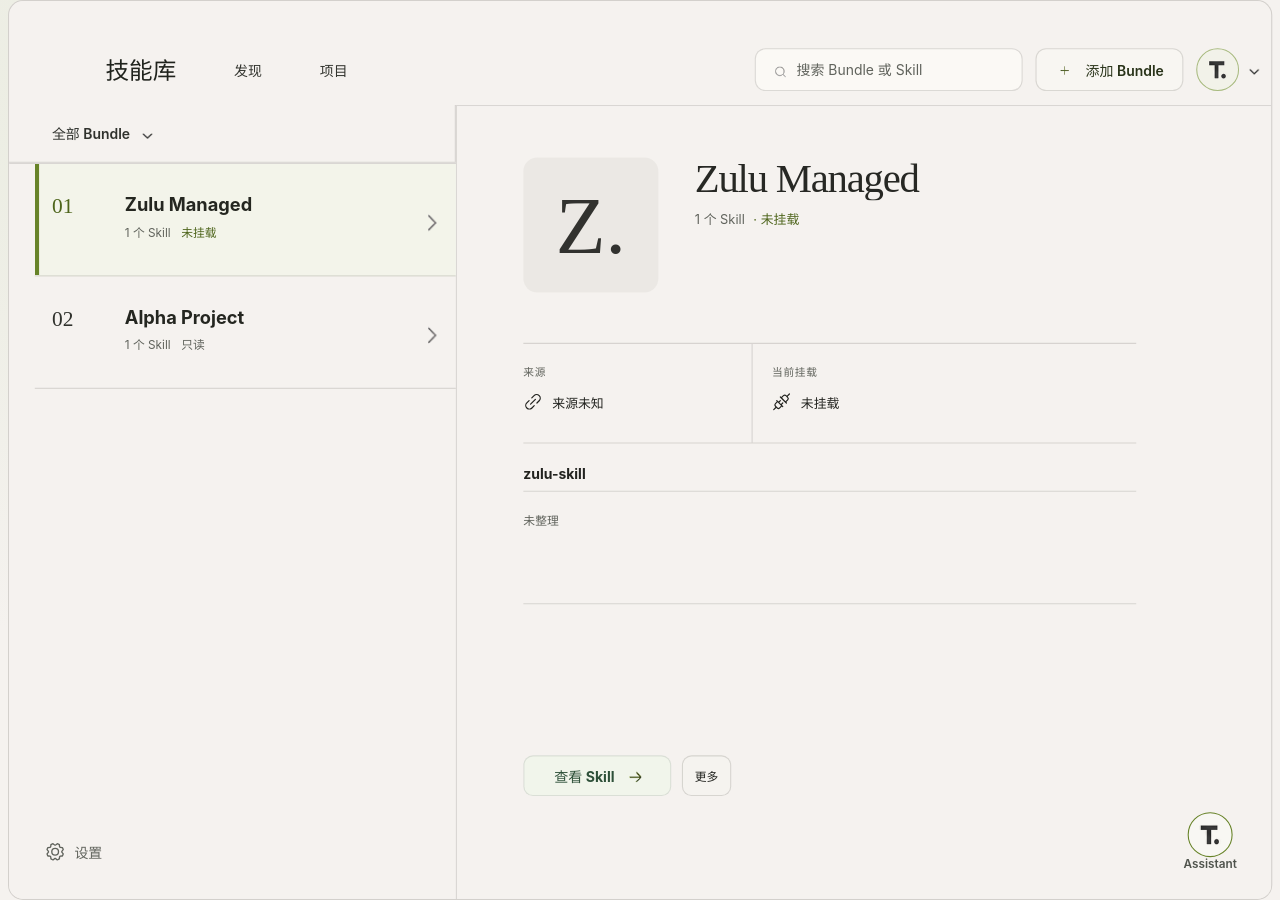
Scenario: 主题功能等价 › ledger 通过共享排序入口按名称浏览并保留当前 Bundle
The width and height of the screenshot is (1280, 900).
Expected: the element "Zulu Managed" is shown, [695, 155, 918, 227]
Click the heading named "筛选与排序：全部 Bundle · 管理状态优先": [91, 134] box [9, 105, 456, 163]
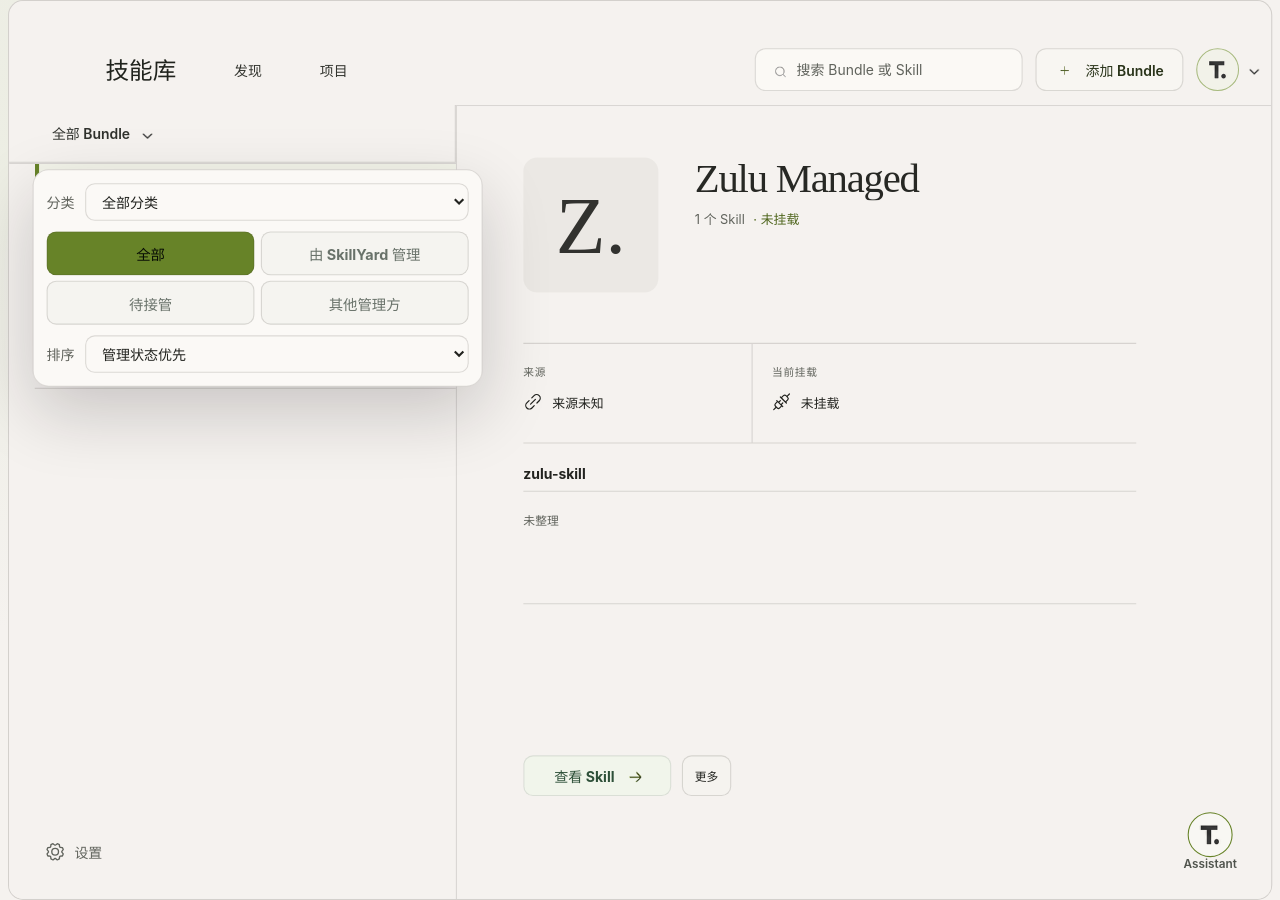
Expected: the dropdown labelled "排序" shows "管理状态优先"
Select "名称 A–Z" in the dropdown labelled "排序": [277, 354] box [85, 335, 468, 373]
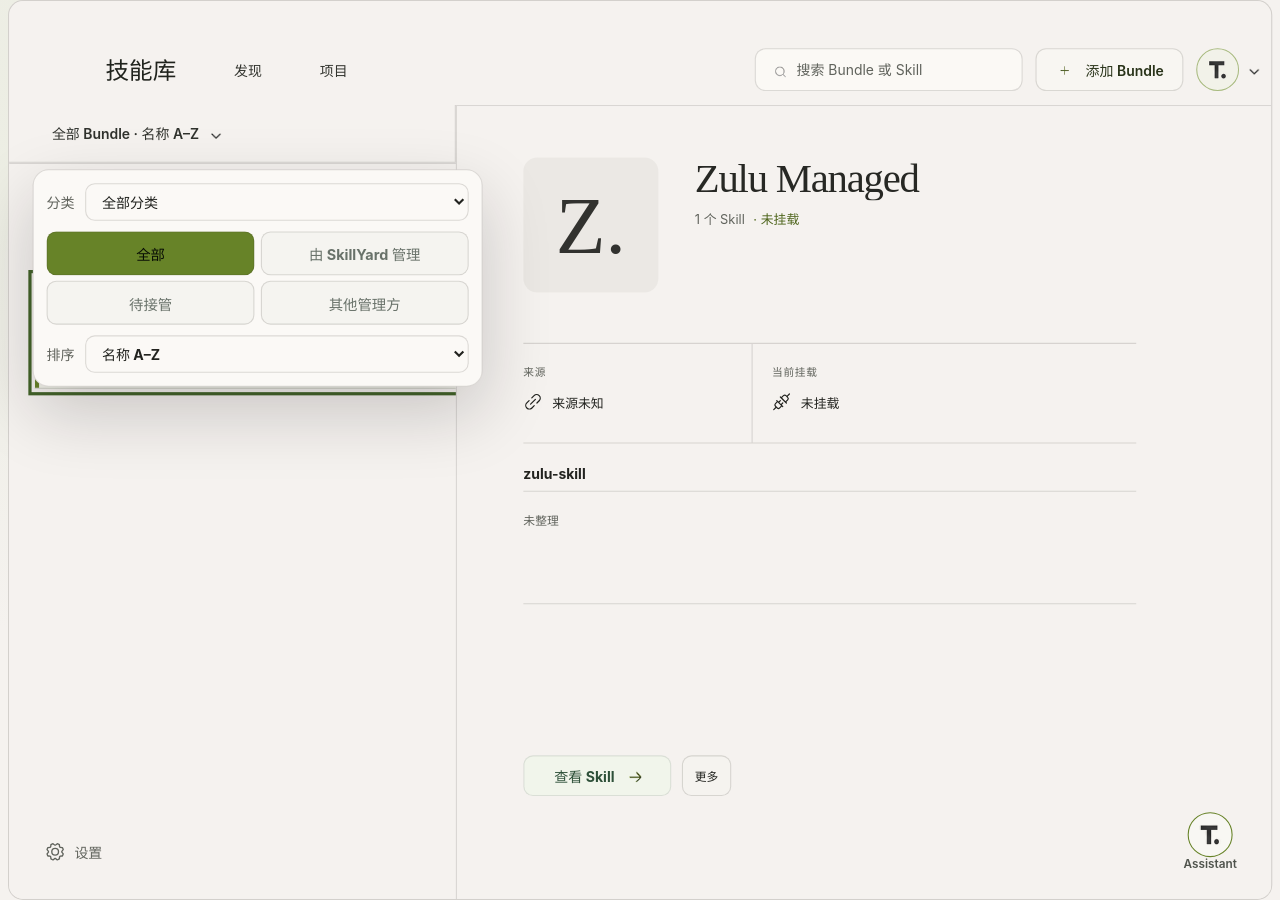
Expected: the element "Zulu Managed" is shown, [695, 155, 918, 227]
Expected: the button "02 Zulu Managed 1 个 Skill 未挂载 打开" is shown, [35, 276, 456, 389]
Press Home
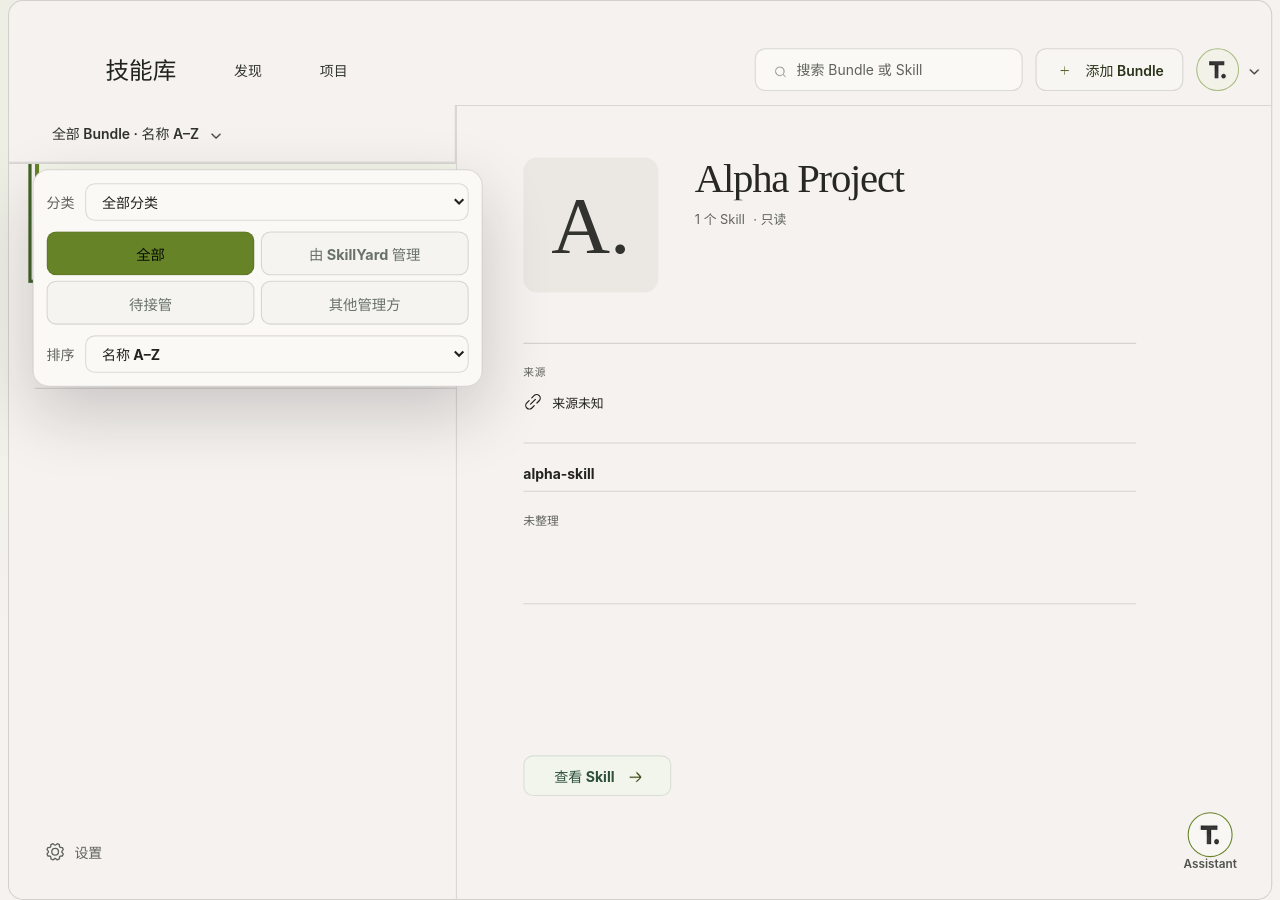
Expected: the element "Alpha Project" is shown, [695, 155, 904, 227]
